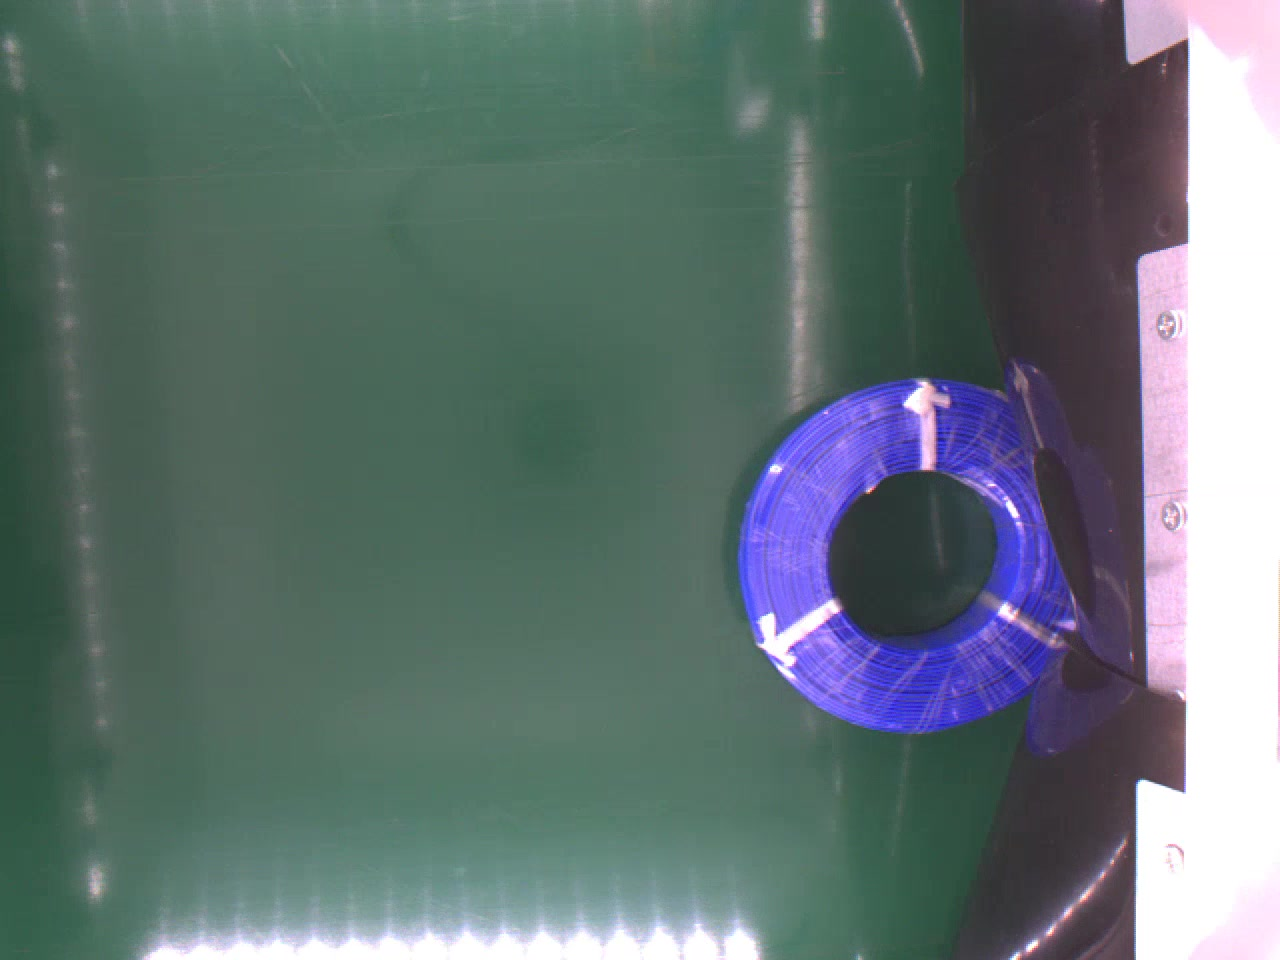blue: (740, 374, 1080, 728)
